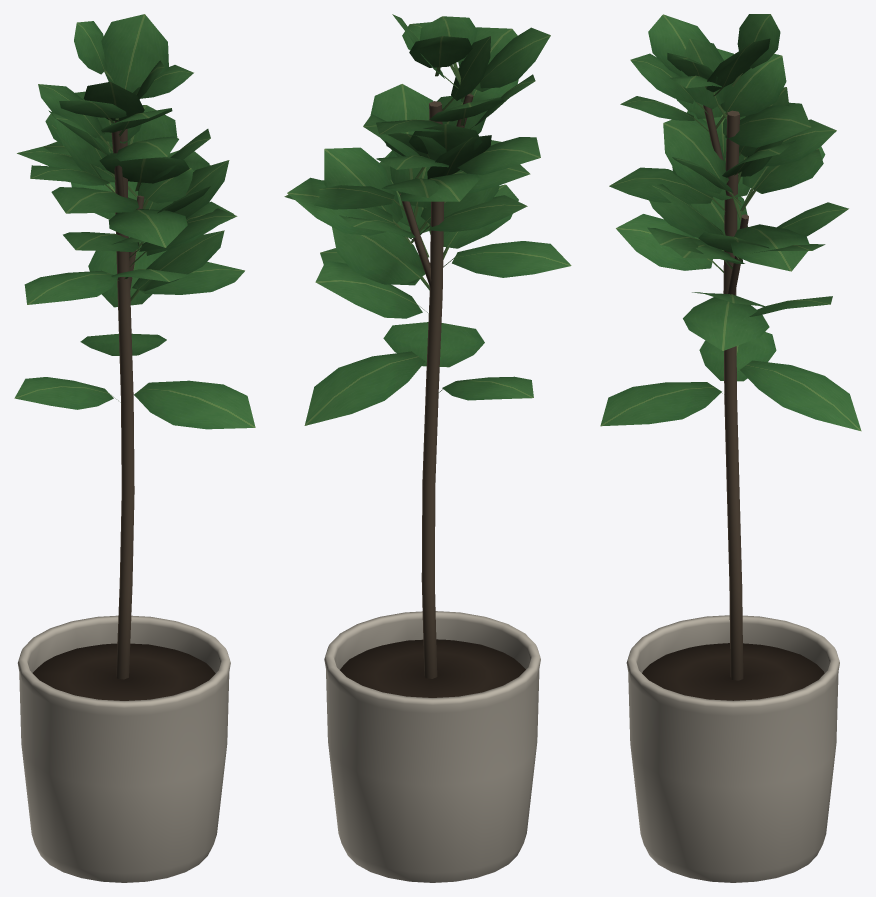
File: library_plant.gltf
The picture shows the model from 3 angles, left to right: view 1: azimuth 30°, elevation 25°; view 2: azimuth 150°, elevation 25°; view 3: azimuth 270°, elevation 25°; orthographic projection.
Parts seen in each view (by area): view 1: LibraryPlant_Leaves, LibraryPlant_Planter, LibraryPlant_Soil, LibraryPlant_Trunk; view 2: LibraryPlant_Leaves, LibraryPlant_Planter, LibraryPlant_Soil, LibraryPlant_Trunk, LibraryPlant_Branch0; view 3: LibraryPlant_Leaves, LibraryPlant_Planter, LibraryPlant_Soil, LibraryPlant_Trunk.
Part boxes in pixels (x1=…): LibraryPlant_Leaves: x1=14, y1=14, x2=255, y2=429; LibraryPlant_Planter: x1=17, y1=615, x2=230, y2=882; LibraryPlant_Soil: x1=32, y1=643, x2=215, y2=700; LibraryPlant_Trunk: x1=114, y1=121, x2=134, y2=679; LibraryPlant_Leaves: x1=284, y1=14, x2=571, y2=425; LibraryPlant_Planter: x1=324, y1=611, x2=540, y2=882; LibraryPlant_Soil: x1=340, y1=639, x2=525, y2=697; LibraryPlant_Trunk: x1=421, y1=101, x2=444, y2=678; LibraryPlant_Branch0: x1=400, y1=194, x2=431, y2=287; LibraryPlant_Leaves: x1=600, y1=14, x2=861, y2=431; LibraryPlant_Planter: x1=626, y1=615, x2=839, y2=882; LibraryPlant_Soil: x1=642, y1=643, x2=824, y2=700; LibraryPlant_Trunk: x1=723, y1=110, x2=743, y2=680.
Size of the model in its own units: 0.6035 by 2.02 by 0.5827.
Materials: 4 (1 with a texture image).
